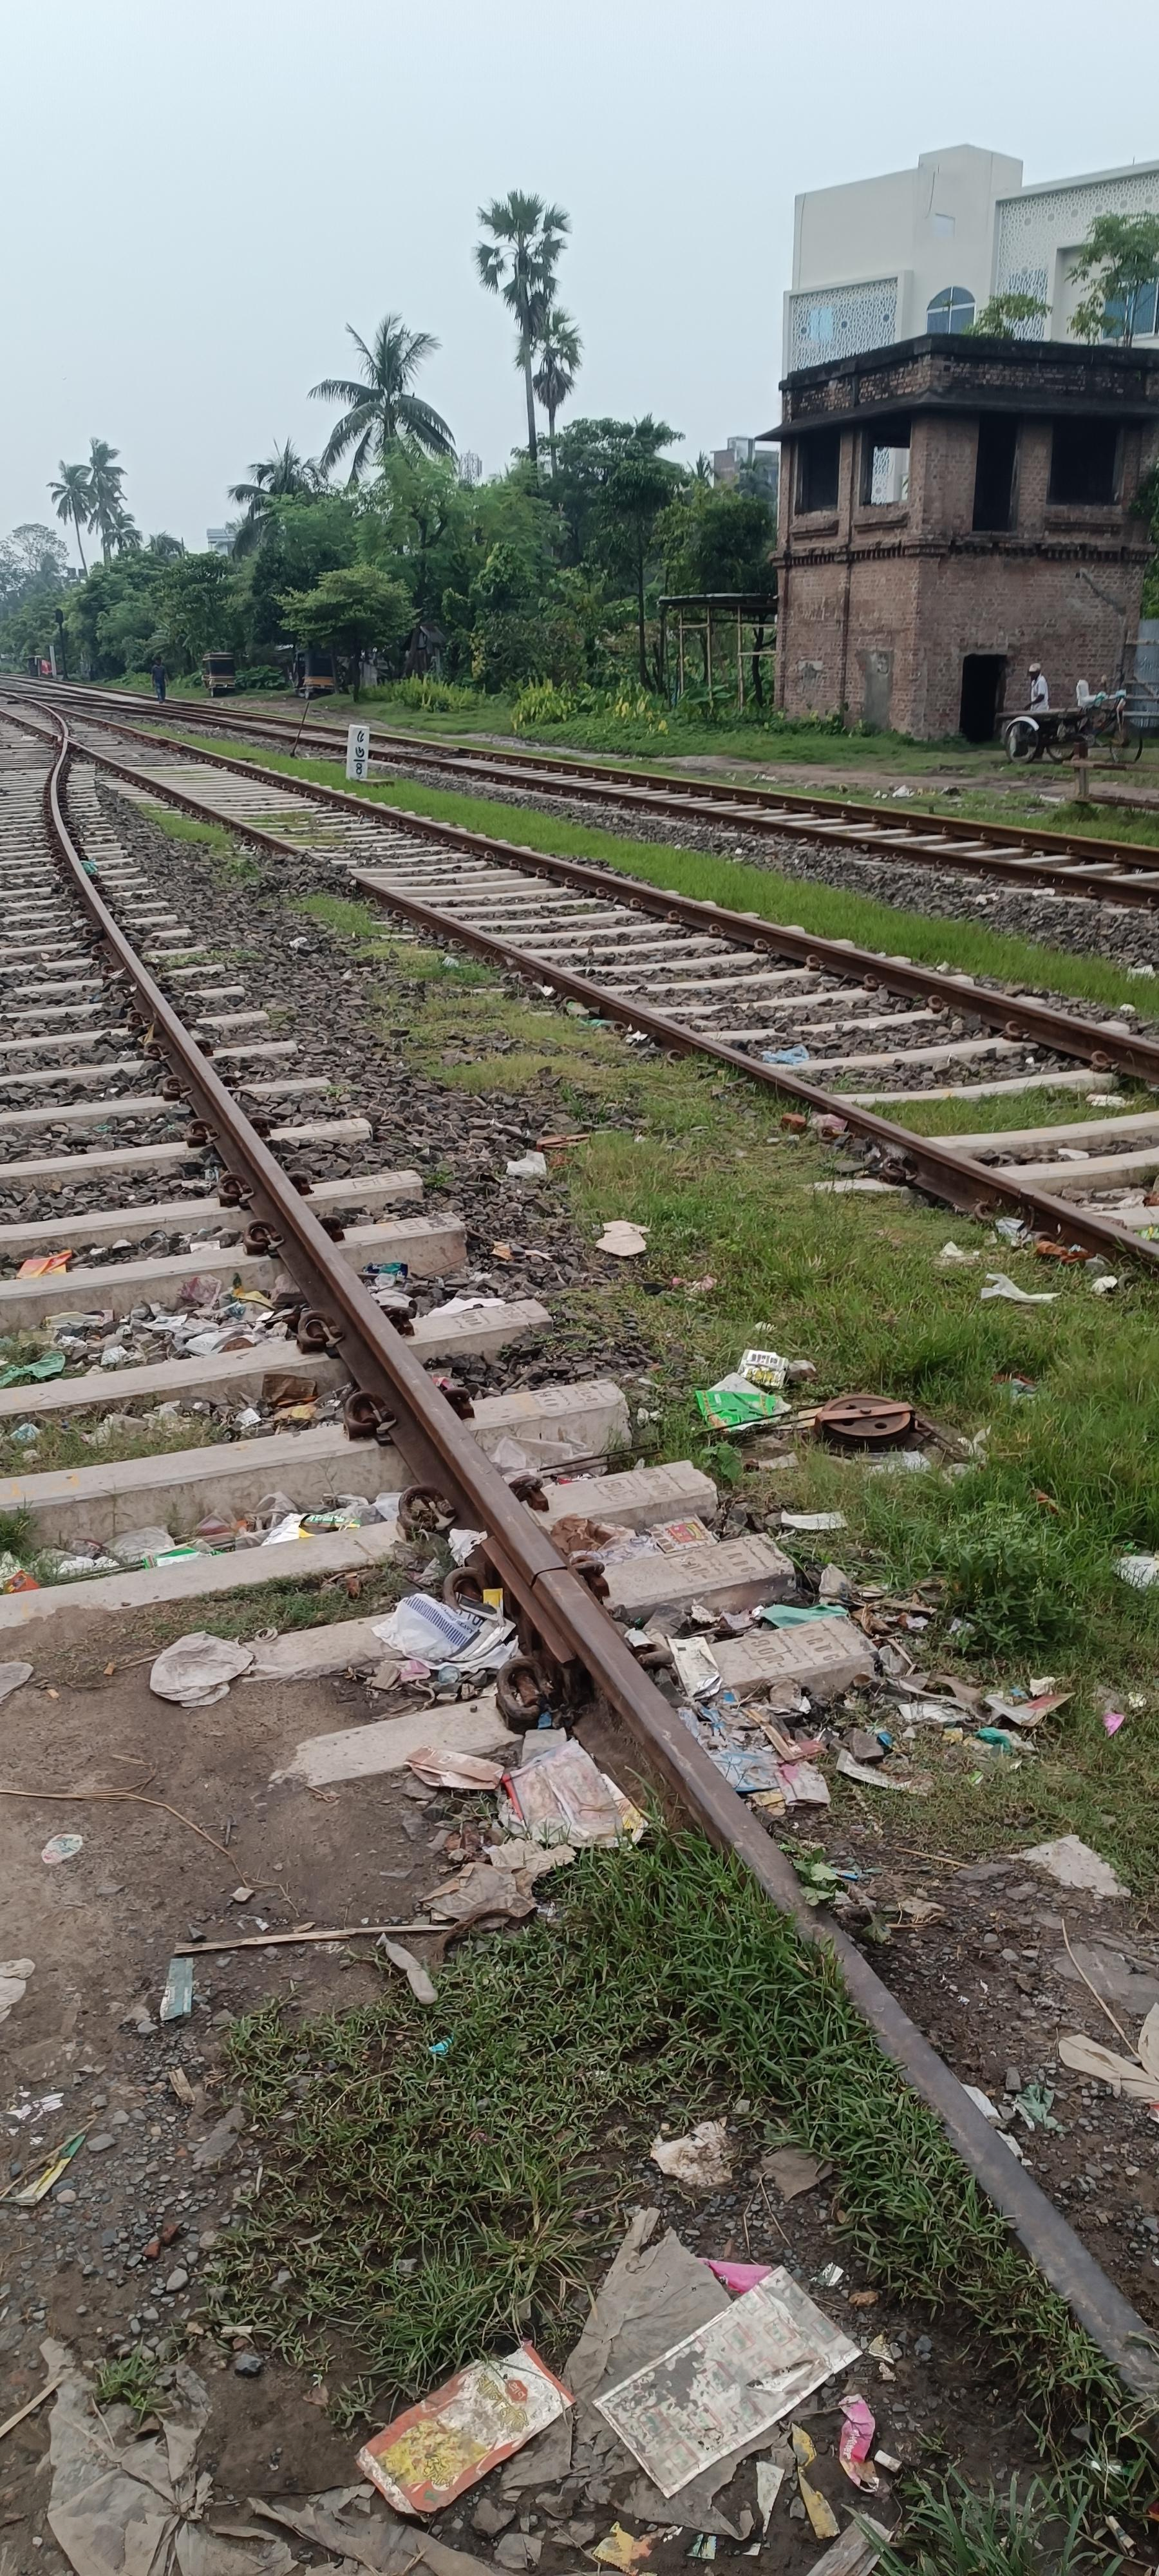Downstairs: (960, 649, 1008, 741)
Garbage-bin: (1021, 660, 1054, 761), (151, 660, 167, 700)
Obstacle: (5, 677, 1156, 2412)
